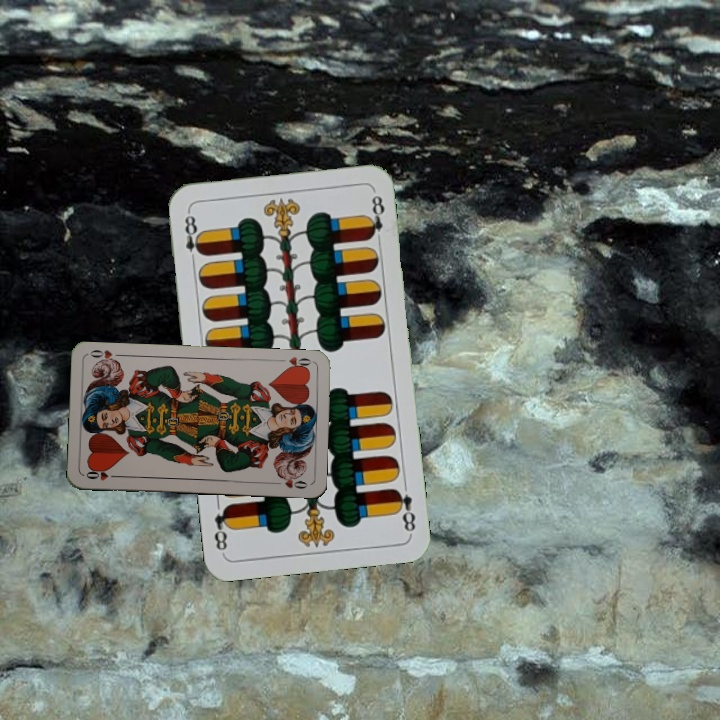E8: (181, 208, 206, 267), (390, 484, 418, 536)
HO: (82, 466, 122, 483), (282, 353, 315, 372)
